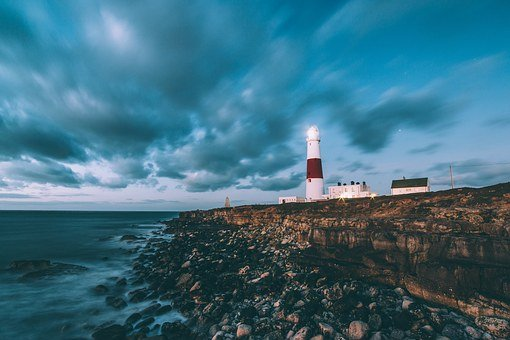sea: (6, 200, 335, 340)
sky: (7, 3, 503, 184)
